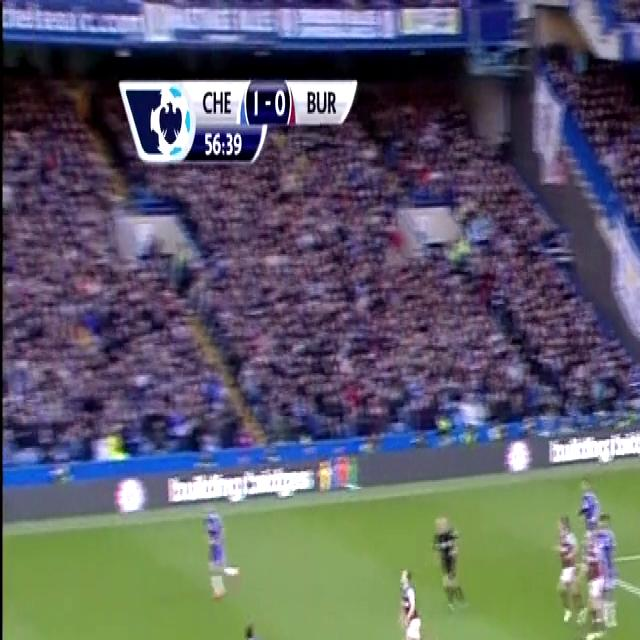referee: (428, 500, 467, 617)
soccer-player: (195, 497, 237, 608), (394, 558, 444, 640), (580, 512, 612, 636), (553, 508, 585, 630), (595, 508, 623, 622), (574, 468, 603, 571), (234, 615, 275, 640), (554, 634, 594, 640)
